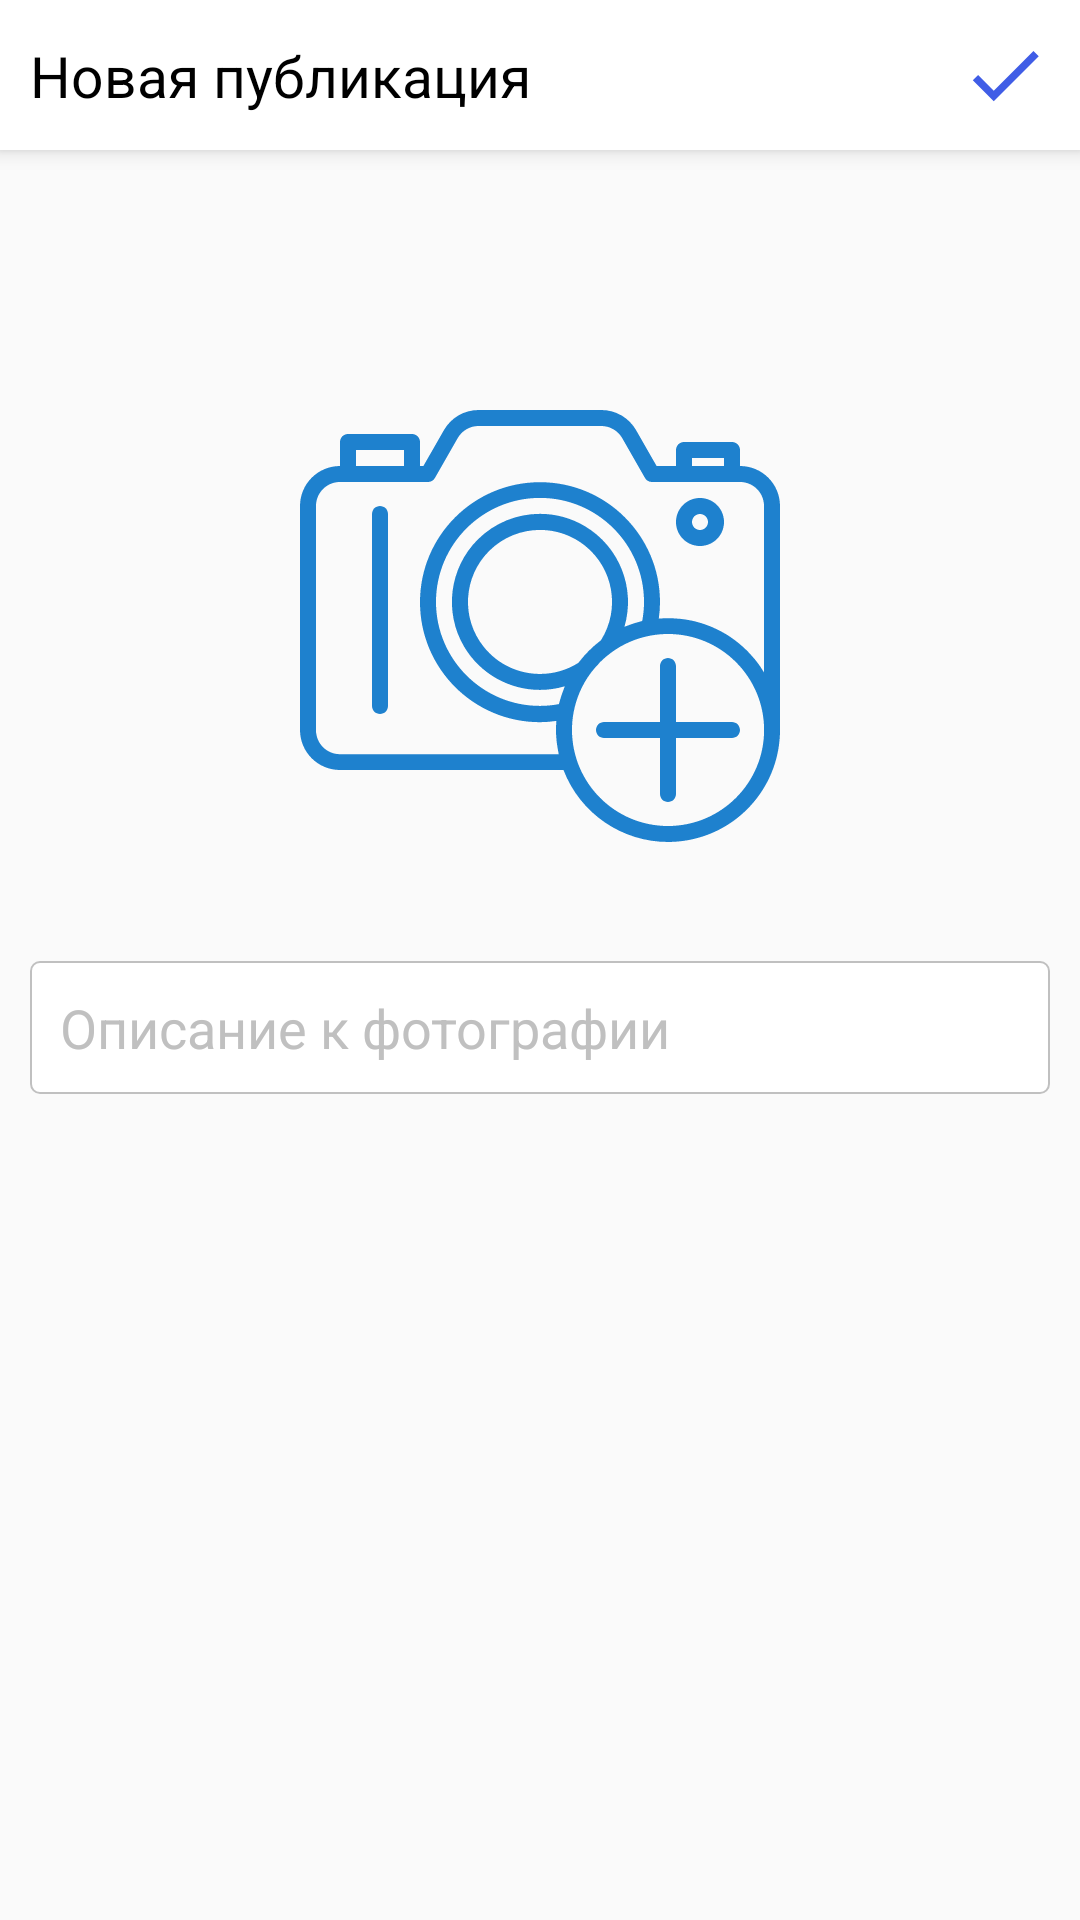

Icon bounding boxes for this 1080px×1920px phone screenshot, format (x1, y1, x2, y2):
check: (973, 51, 1039, 101)
